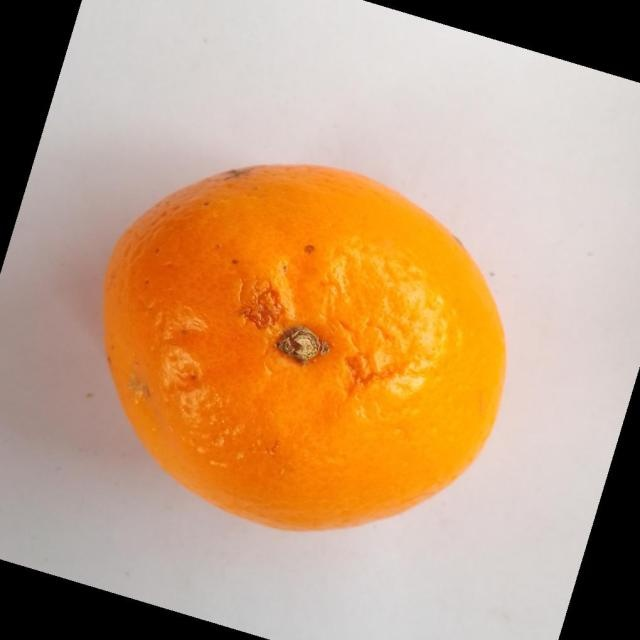agrume: (101, 162, 507, 532)
